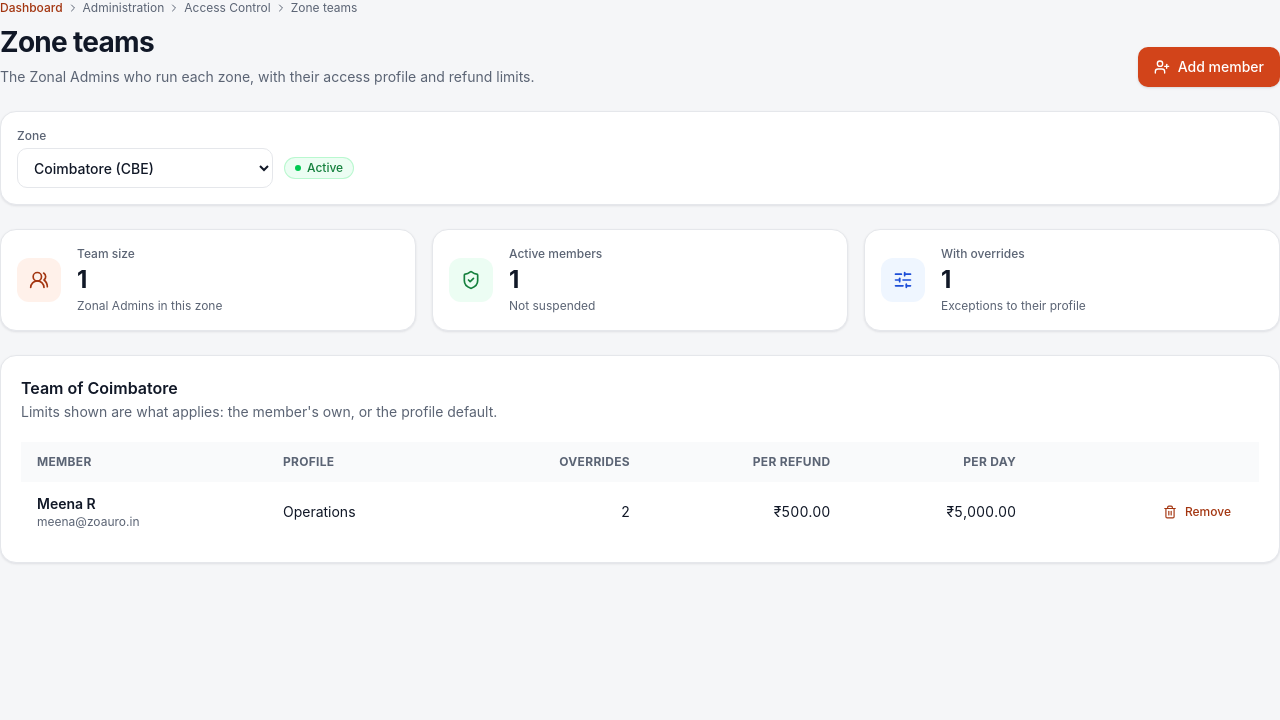
Test: zone teams page › Add member offers only people outside the team and sends the contract body (rupees → paise)
Expected: the table named "Team of Coimbatore" is shown, [21,442,1259,542]
Click the button "Add member" at point(1209, 67), box [1138,47,1279,87]
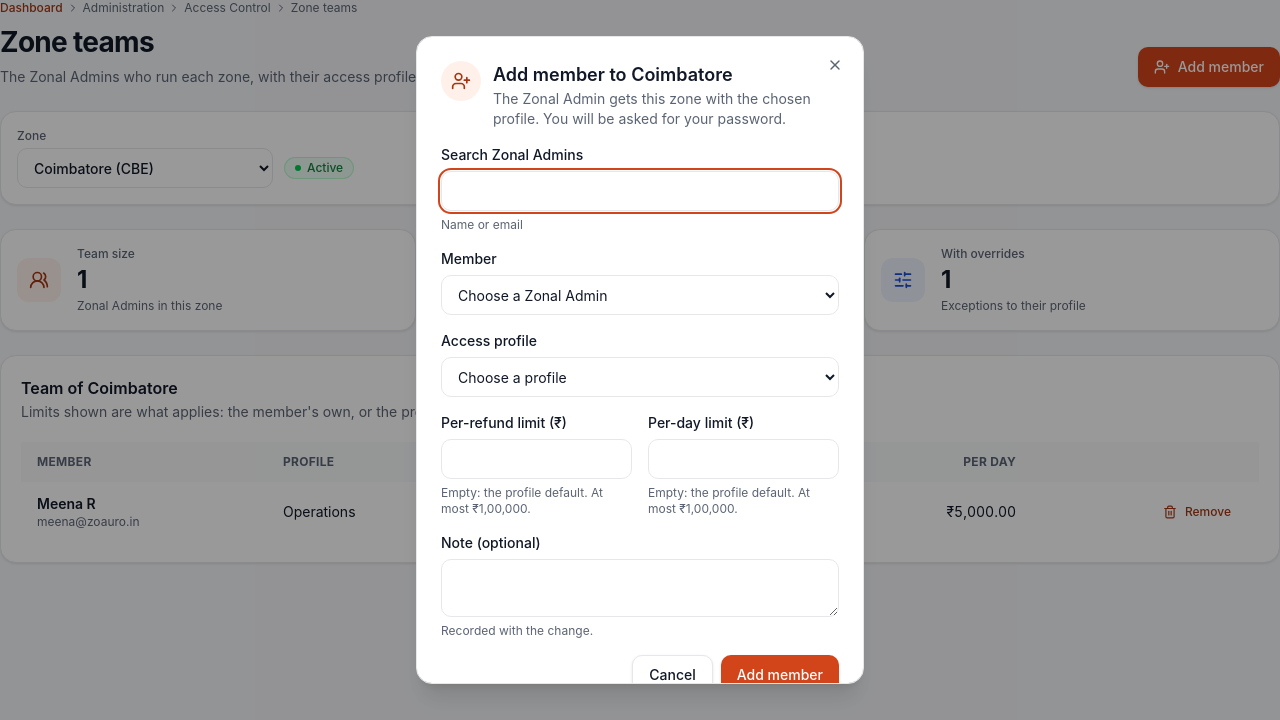
// nothing chosen: refused on the client
Click the button "Add member" at point(780, 675), box [721,655,839,695]
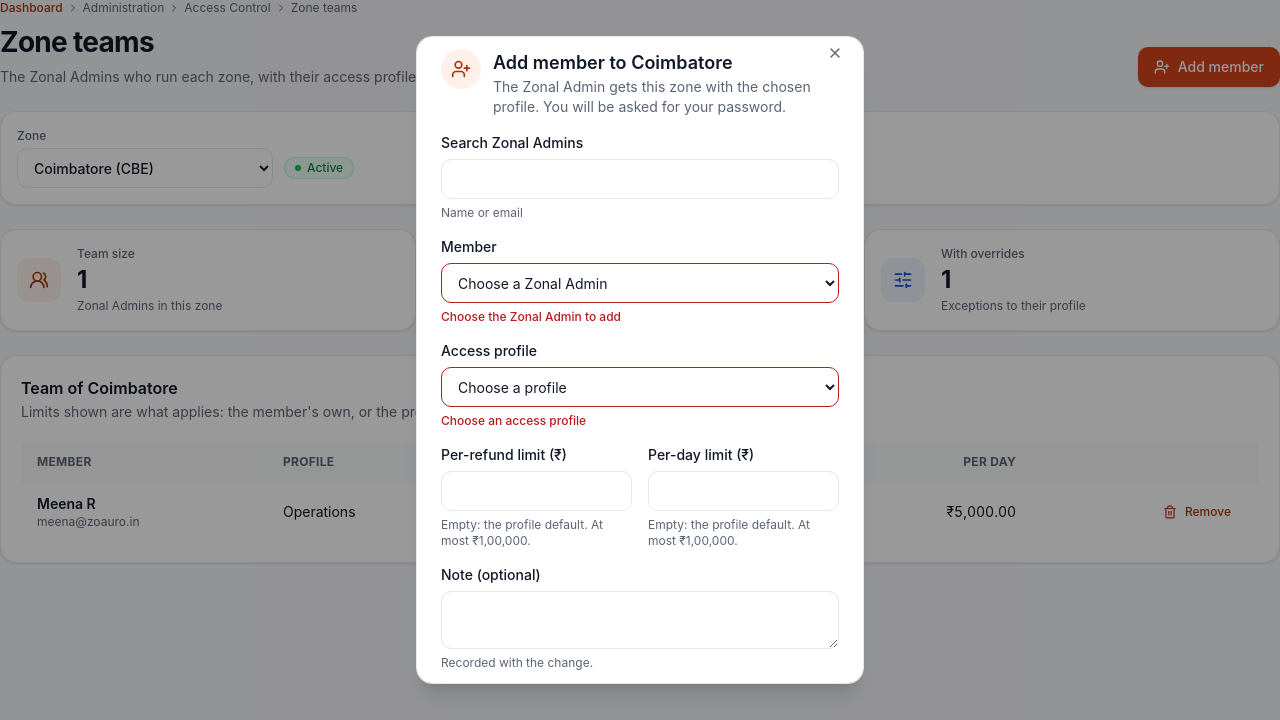
Expected: the text "Choose the Zonal Admin to add" is shown, [441,309,621,324]
Select "Arun K · arun@zoauro.in" in the dropdown labelled "Member" at point(640, 283), box [441,263,839,303]
Select "Operations" in the dropdown labelled "Access profile" at point(640, 387), box [441,367,839,407]
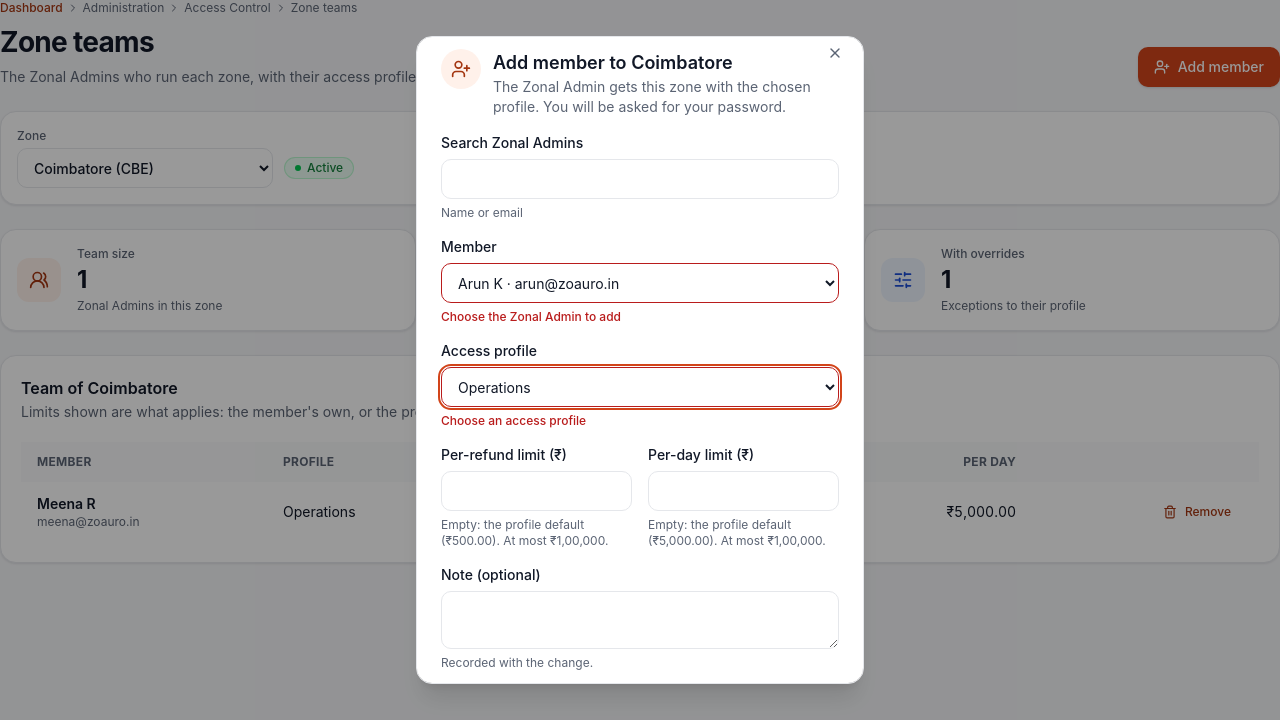
Type "2500.50" into the field labelled "Per-refund limit (₹)" at point(536, 491), box [441,471,632,511]
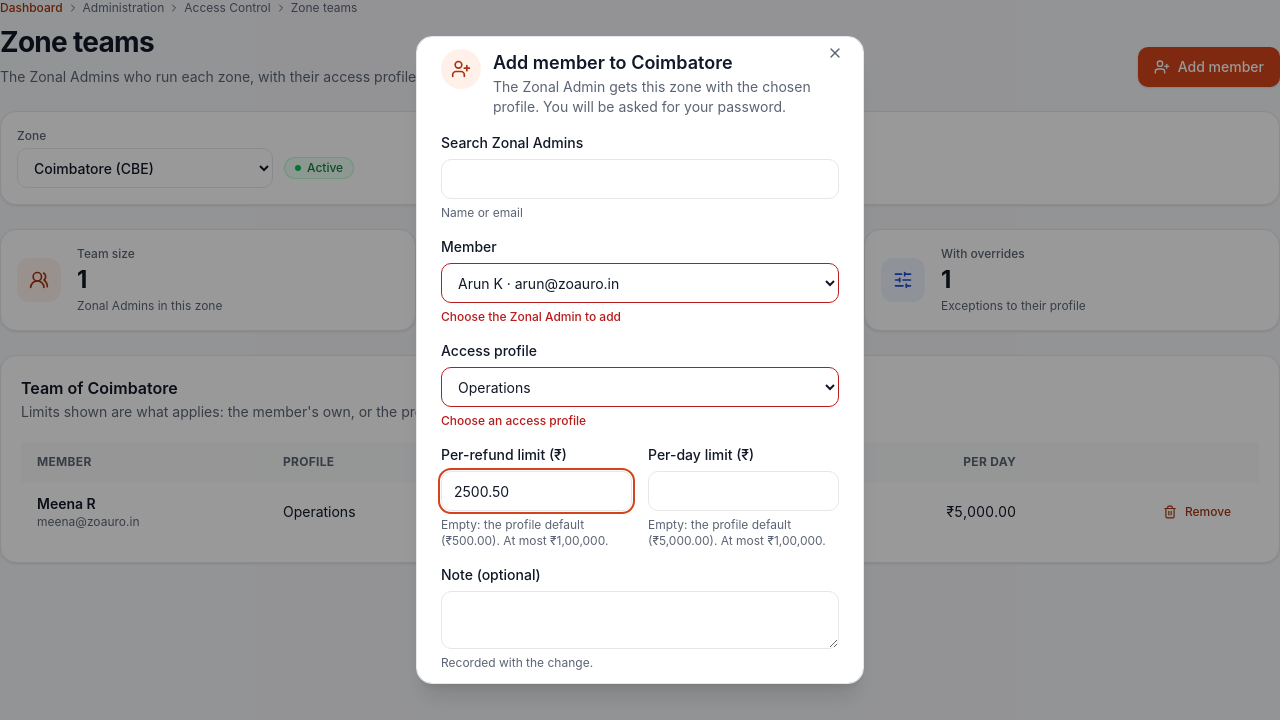
Type "Weekend cover" into the text box labelled "Note (optional)" at point(640, 620), box [441,591,839,649]
(page scrolled)
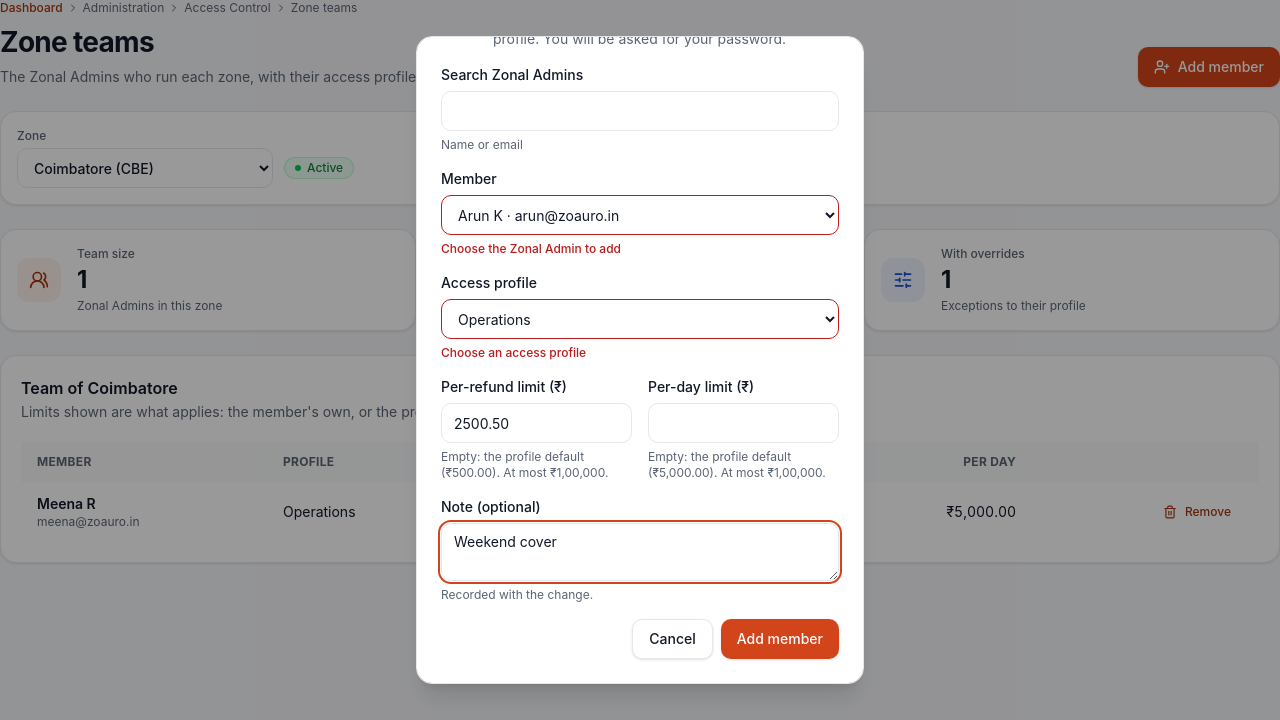
Click the button "Add member" at point(780, 639), box [721,619,839,659]
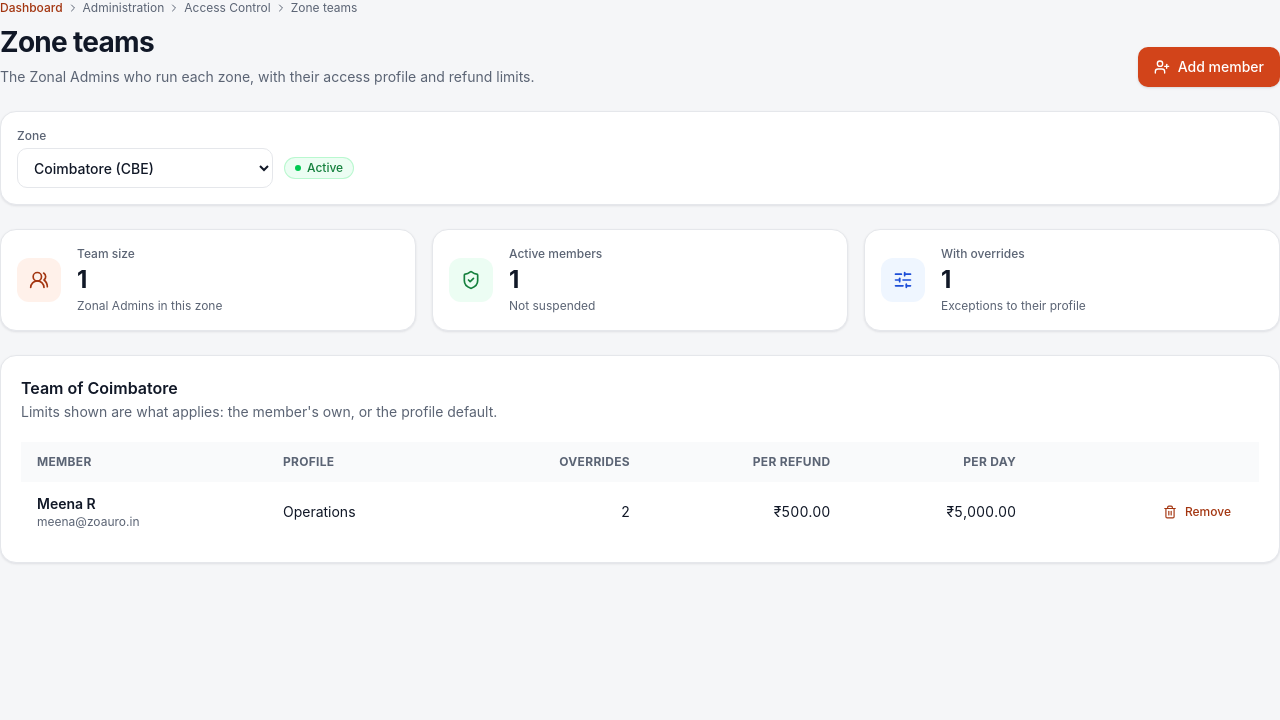
Expected: the dialog is gone
